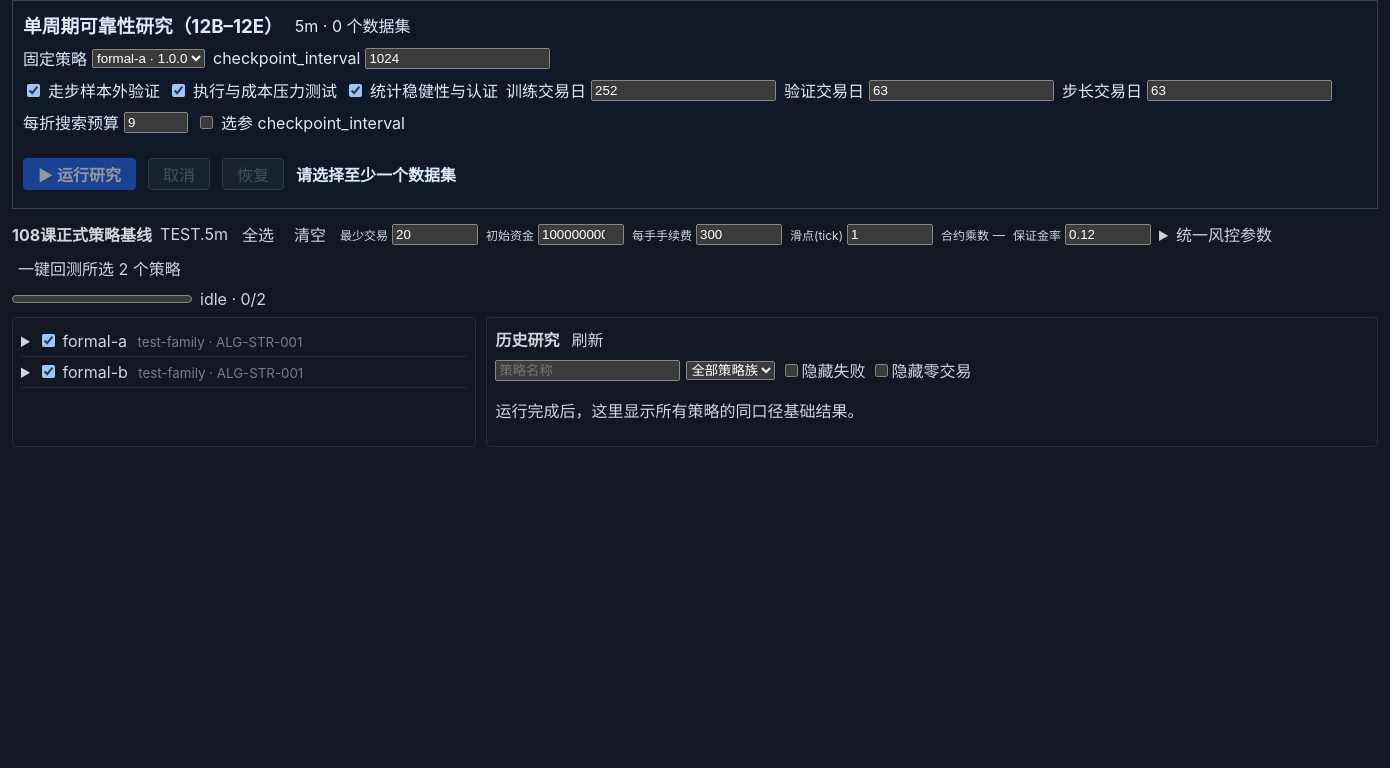
it: StrategyResearchPanel › selects only formal strategies and submits one common baseline batch
This screenshot has width=1390, height=768.
Click the button "一键回测所选 2 个策略" at (99, 268), box x1=12 y1=255 x2=187 y2=281
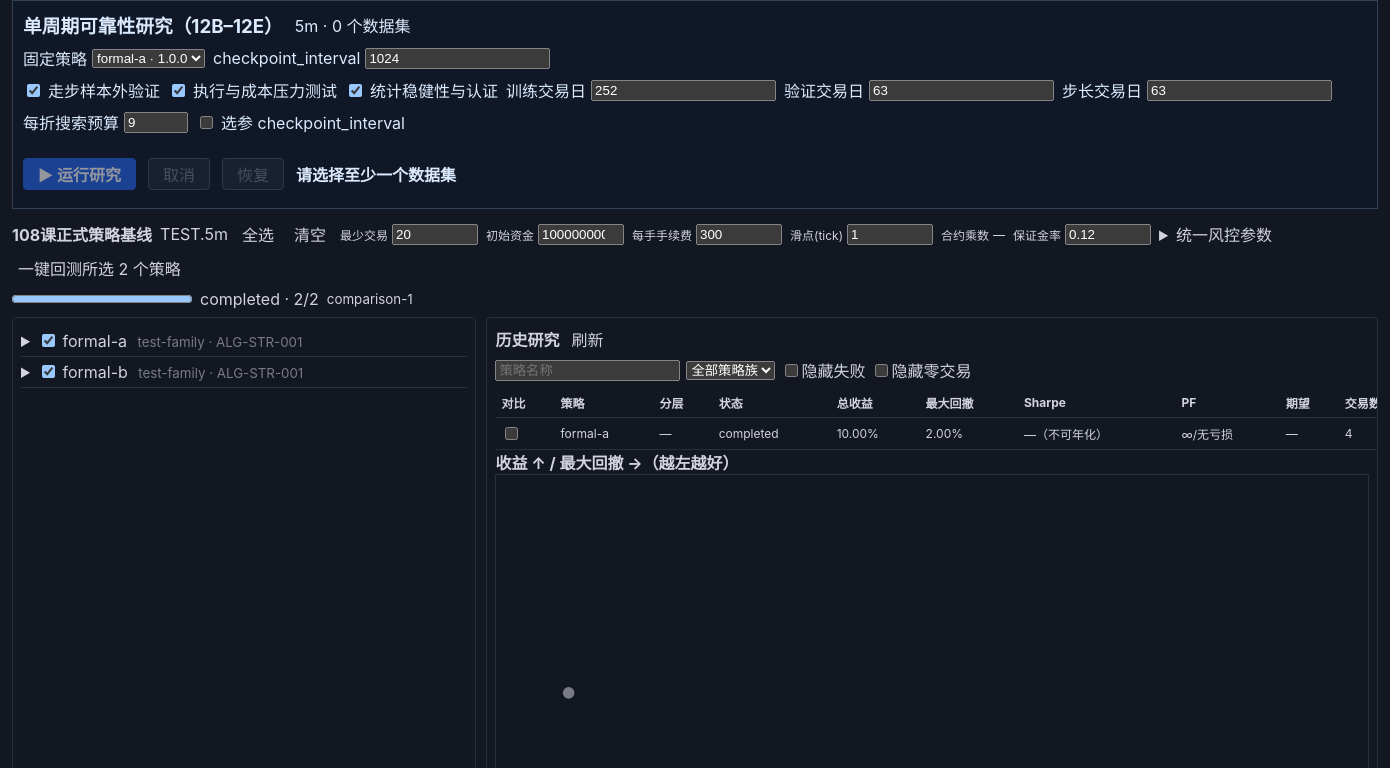
Check: the text "10.00%" is shown, box x1=831 y1=418 x2=920 y2=450
